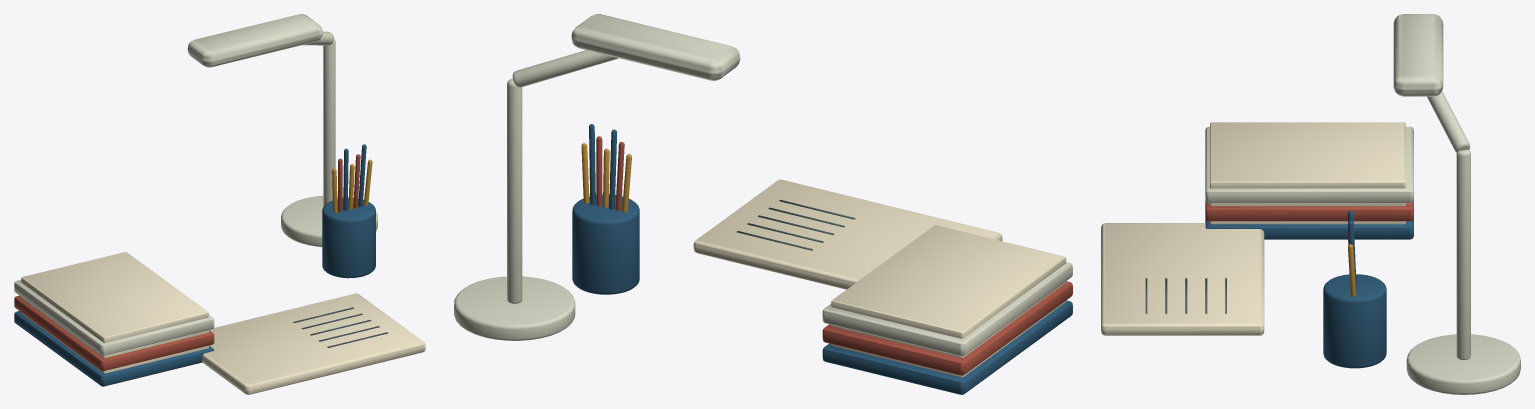
Rendered from urban-study-kit-v1.glb.
The picture shows the model from 3 angles, left to right: view 1: azimuth 30°, elevation 25°; view 2: azimuth 150°, elevation 25°; view 3: azimuth 270°, elevation 25°; orthographic projection. The views are drawn at different scales.
Visible parts, largest first — view 1: Open workbook, Page edges.002, Task light, Pencil cup, Book cover.002, Book cover.001, Book cover, Lamp stem, Lamp foot, Page edges.001, Page edges; view 2: Open workbook, Page edges.002, Task light, Lamp foot, Pencil cup, Book cover.001, Book cover.002, Book cover, Lamp stem, Lamp hinge arm; view 3: Open workbook, Page edges.002, Pencil cup, Lamp foot, Book cover.002, Task light, Book cover.001, Lamp stem, Book cover, Lamp hinge arm, Page edges.001, Page edges.
Part boxes in pixels (bbox=[...]): Open workbook: bbox=[202, 293, 425, 394]; Page edges.002: bbox=[21, 252, 208, 342]; Task light: bbox=[187, 14, 322, 67]; Pencil cup: bbox=[322, 198, 375, 278]; Book cover.002: bbox=[14, 280, 214, 355]; Book cover.001: bbox=[14, 295, 214, 371]; Book cover: bbox=[14, 311, 214, 386]; Lamp stem: bbox=[323, 39, 335, 206]; Lamp foot: bbox=[281, 195, 377, 246]; Page edges.001: bbox=[21, 297, 208, 358]; Page edges: bbox=[21, 312, 208, 373]; Open workbook: bbox=[693, 179, 1002, 289]; Page edges.002: bbox=[831, 225, 1066, 338]; Task light: bbox=[571, 14, 740, 80]; Lamp foot: bbox=[454, 276, 575, 340]; Pencil cup: bbox=[572, 194, 639, 294]; Book cover.001: bbox=[822, 281, 1072, 375]; Book cover.002: bbox=[822, 262, 1072, 356]; Book cover: bbox=[822, 300, 1072, 394]; Lamp stem: bbox=[507, 78, 522, 303]; Lamp hinge arm: bbox=[512, 50, 618, 87]; Open workbook: bbox=[1101, 223, 1264, 335]; Page edges.002: bbox=[1210, 122, 1405, 188]; Pencil cup: bbox=[1323, 274, 1386, 368]; Lamp foot: bbox=[1406, 334, 1520, 394]; Book cover.002: bbox=[1205, 126, 1413, 203]; Task light: bbox=[1393, 14, 1443, 96]; Book cover.001: bbox=[1205, 200, 1413, 221]; Lamp stem: bbox=[1456, 149, 1470, 359]; Book cover: bbox=[1205, 218, 1413, 239]; Lamp hinge arm: bbox=[1427, 91, 1470, 152]; Page edges.001: bbox=[1210, 203, 1405, 206]; Page edges: bbox=[1210, 221, 1405, 224].
Size of the model in its own units: 0.568 by 0.3325 by 0.463.
Materials: 6 (6 with a texture image).
